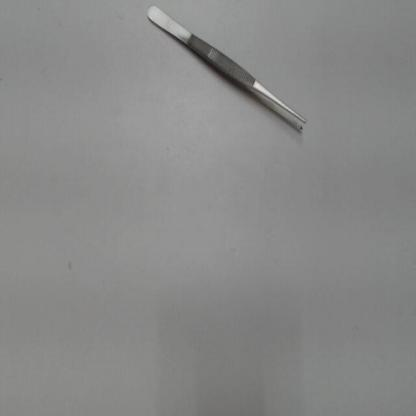Gillies Toothed Dissector: (142, 3, 318, 145)
